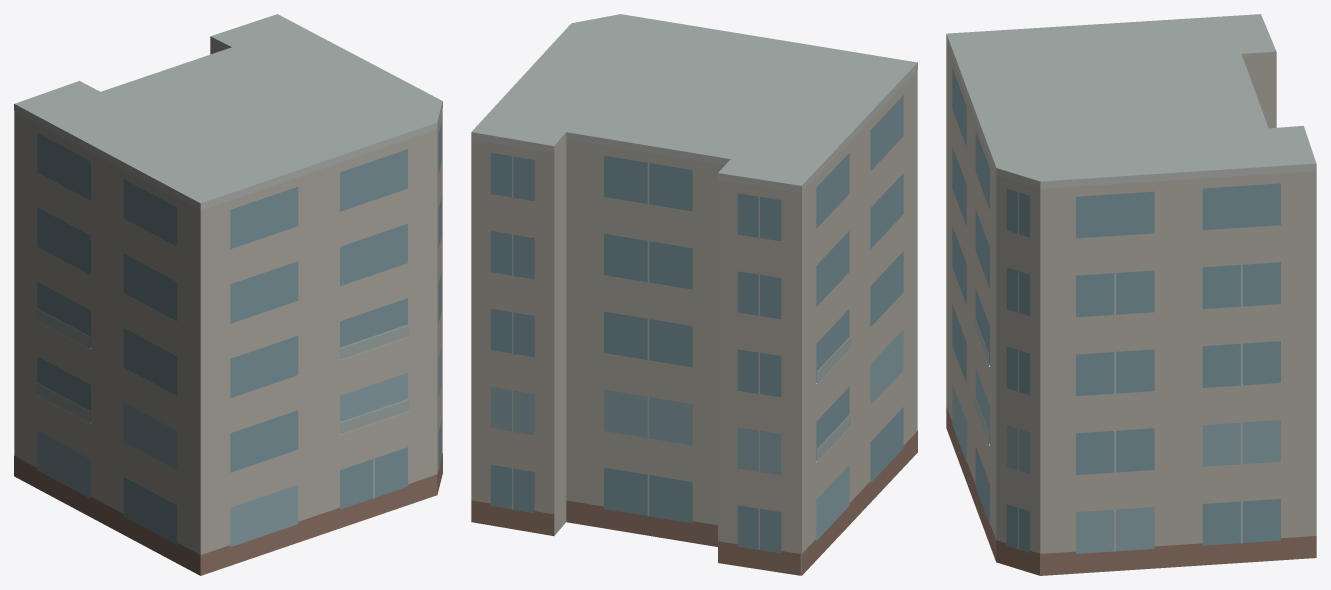
The model's file is survey-upis-32717027.glb.
3 views of the same model, side by side, from view 1: azimuth 30°, elevation 25°; view 2: azimuth 150°, elevation 25°; view 3: azimuth 270°, elevation 25° (orthographic). The views are drawn at different scales.
Parts seen in each view (by area): view 1: survey-upis-32717027.tmp; view 2: survey-upis-32717027.tmp; view 3: survey-upis-32717027.tmp.
Part boxes in pixels (<box>): survey-upis-32717027.tmp: <box>14,14,442,575</box>; survey-upis-32717027.tmp: <box>471,14,917,575</box>; survey-upis-32717027.tmp: <box>946,14,1316,575</box>.
Size of the model in its own units: 11.9 by 13.05 by 11.11.
